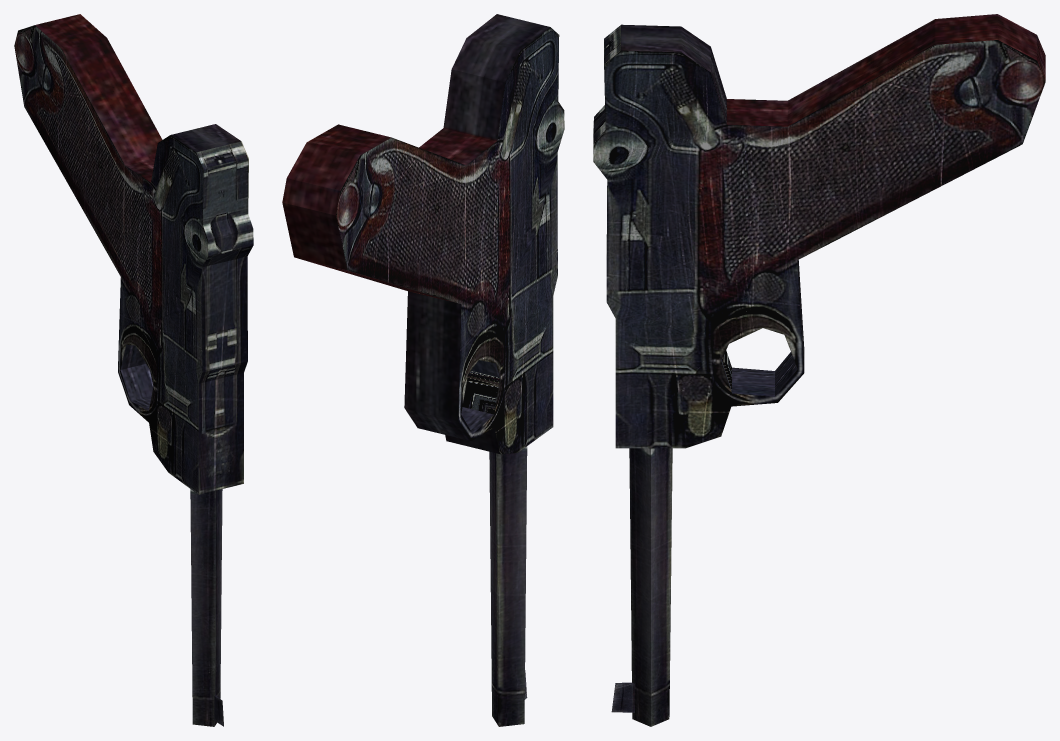
The model's file is luger140_wtf.obj.
3 renders of one model, left to right at view 1: azimuth 30°, elevation 25°; view 2: azimuth 150°, elevation 25°; view 3: azimuth 270°, elevation 25°, orthographic. The views are drawn at different scales.
Parts seen in each view (by area): view 1: group3; view 2: group3; view 3: group3.
Boxes of the visible parts, box(x1,y1,x2,y2) form: group3: box(14, 14, 253, 726); group3: box(282, 14, 564, 726); group3: box(593, 14, 1045, 726).
Size of the model in its own units: 52.92 by 660 by 391.
